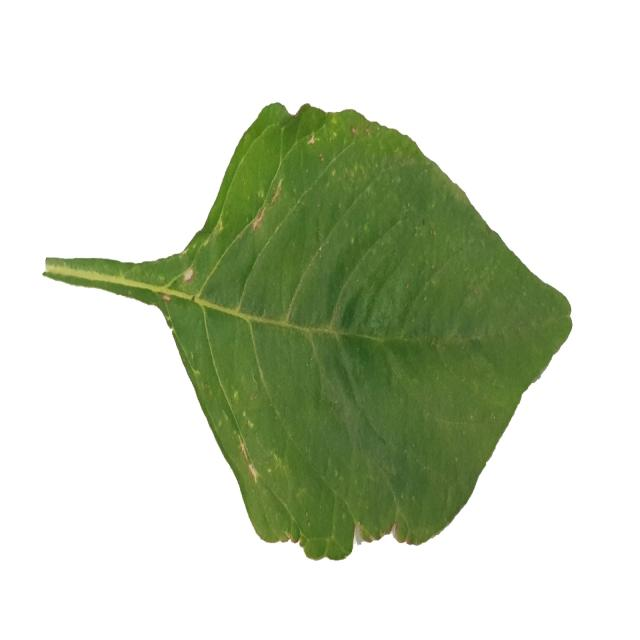Medicinal-Arive Dantu: (42, 100, 575, 562)
